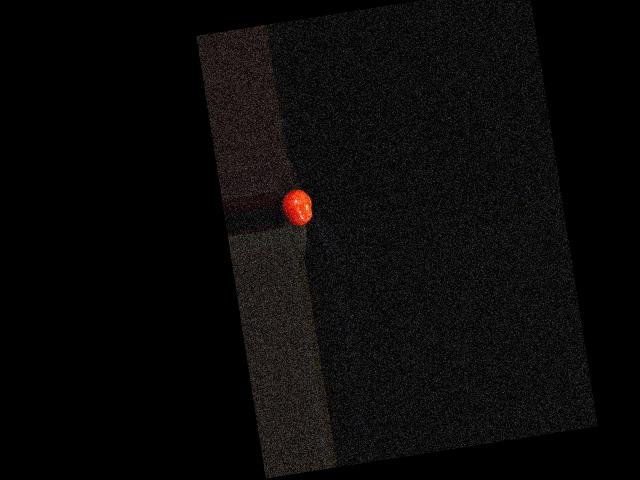tomato: (278, 186, 314, 228)
